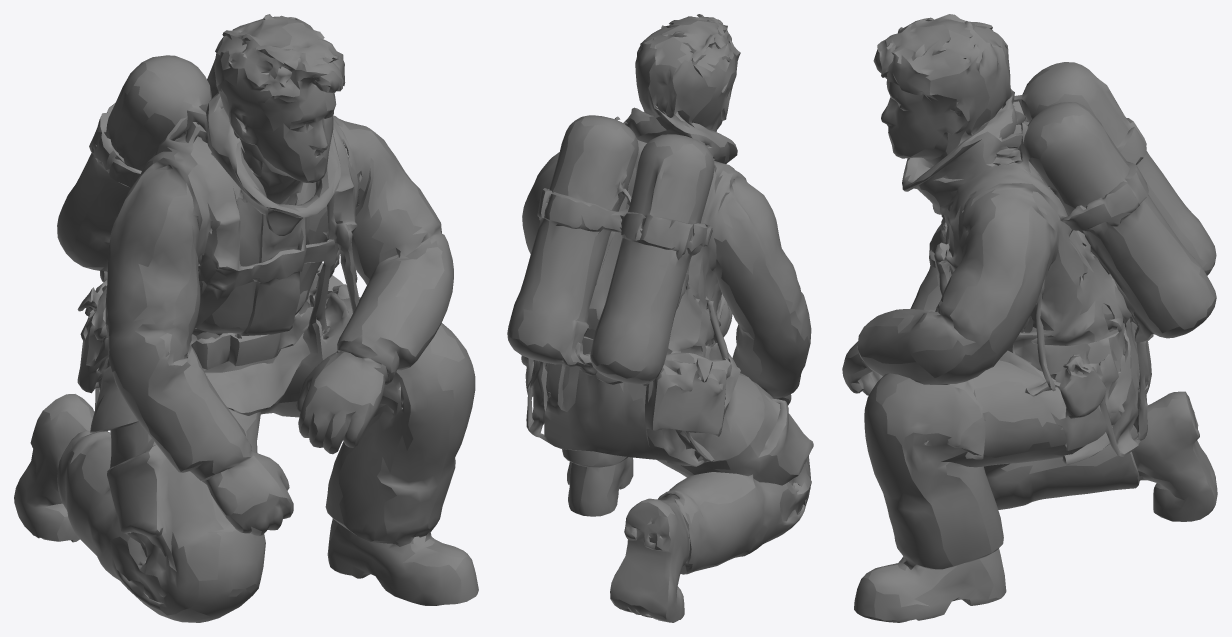
File: completion_firefighter_2.glb
3 views of the same model, side by side, from view 1: azimuth 30°, elevation 25°; view 2: azimuth 150°, elevation 25°; view 3: azimuth 270°, elevation 25° (orthographic). The views are drawn at different scales.
Parts seen in each view (by area): view 1: geometry_0; view 2: geometry_0; view 3: geometry_0.
Part boxes in pixels (x1=…): geometry_0: x1=14, y1=14, x2=478, y2=622; geometry_0: x1=507, y1=14, x2=813, y2=622; geometry_0: x1=842, y1=14, x2=1217, y2=622.
Size of the model in its own units: 0.5926 by 1 by 0.6416.
Materials: 1 (1 with a texture image).
